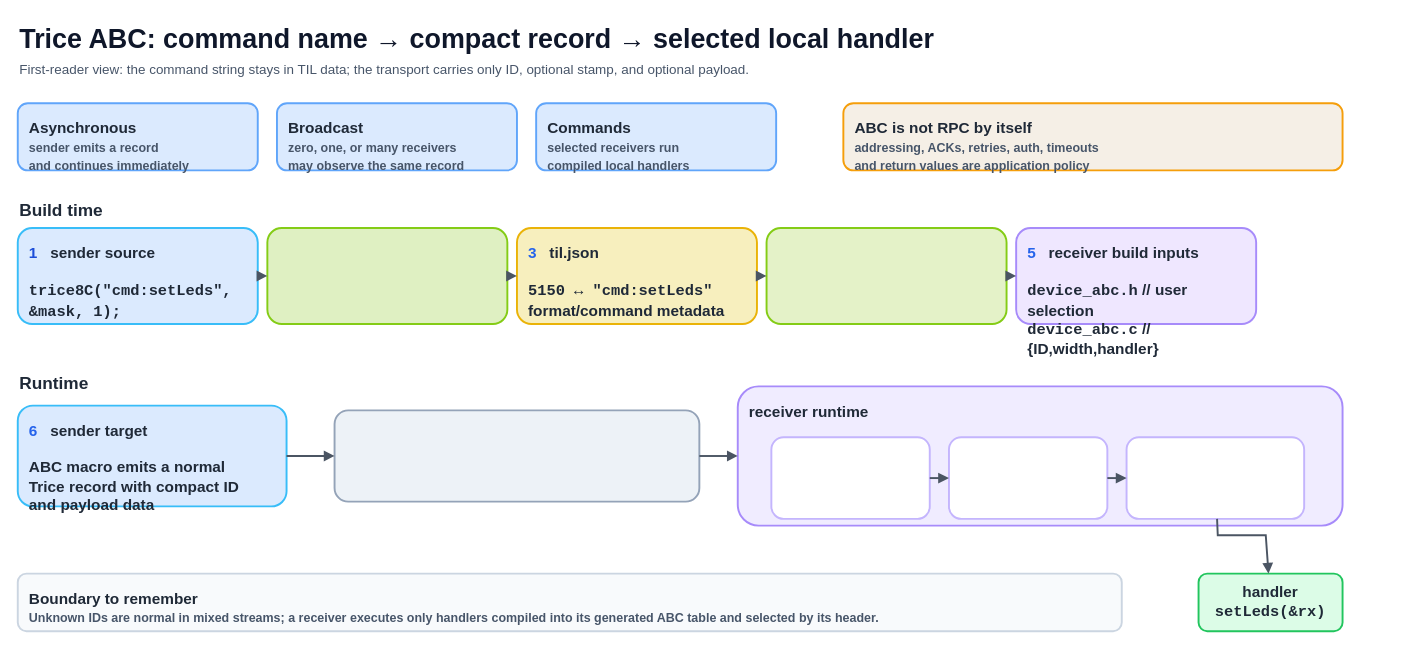
Some shapes in this 1426 by 648 pixel diagram are drawn without their labels. The centre of each missing label's shape, as x and y in pixels:
"2 trice insert assigns numeric ID and updates til.json" belongs at (387,275).
"4 trice generate -abc reads til.json + selection writes receiver table" belongs at (886,275).
"dispatch TriceDispatchAbc() validates and calls" belongs at (1215,477).
"parse triceParse NextRecord() fills rx" belongs at (850,477).
"resolve TriceResolveAbc() ID lookup in table" belongs at (1028,477).
"transport / bus ID stamp? payload? No command string is transferred." belongs at (516,455).
